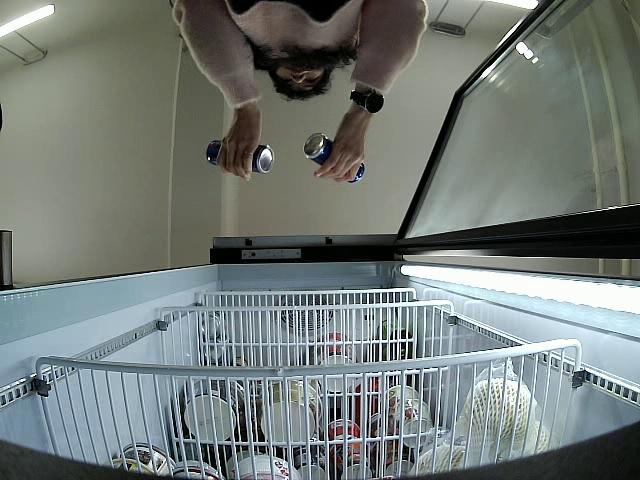00_hand: (312, 108, 368, 183), (217, 111, 262, 183)
16_hot6: (303, 132, 365, 184), (205, 137, 275, 175)
